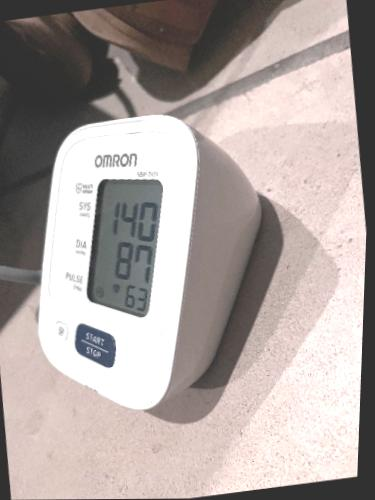bpm: (84, 172, 164, 320)
